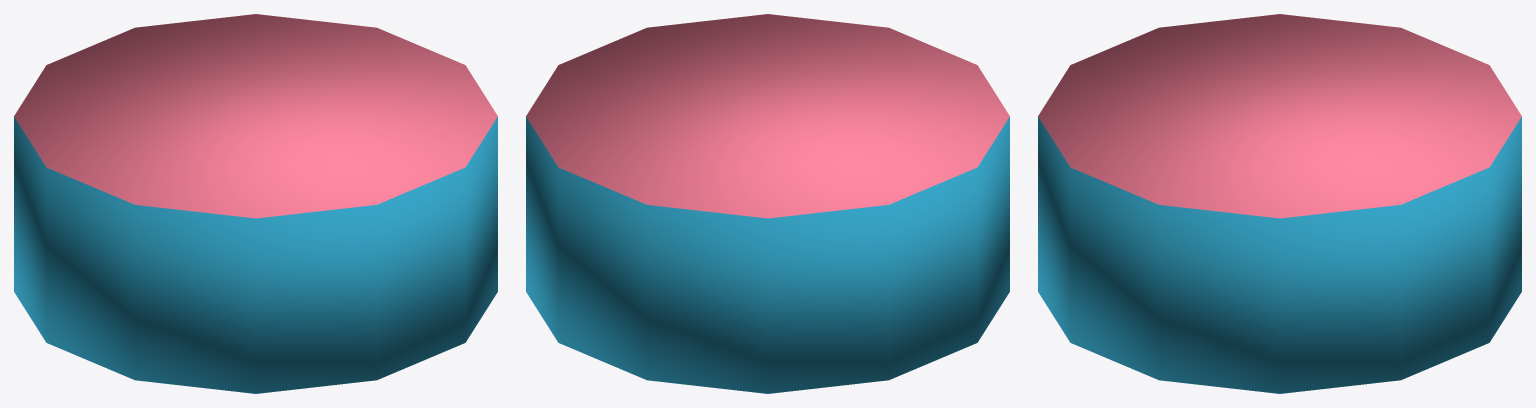
The model's file is puck-std.glb.
3 renders of one model, left to right at view 1: azimuth 30°, elevation 25°; view 2: azimuth 150°, elevation 25°; view 3: azimuth 270°, elevation 25°, orthographic.
Visible parts, largest first — view 1: Cylinder; view 2: Cylinder; view 3: Cylinder.
Part boxes in pixels (x1,y1,x2,y2): Cylinder: (14,14,497,393); Cylinder: (526,14,1009,393); Cylinder: (1038,14,1521,393).
Bounding box in the file's own units: 1 × 0.4 × 1.
Materials: 1 (1 with a texture image).
